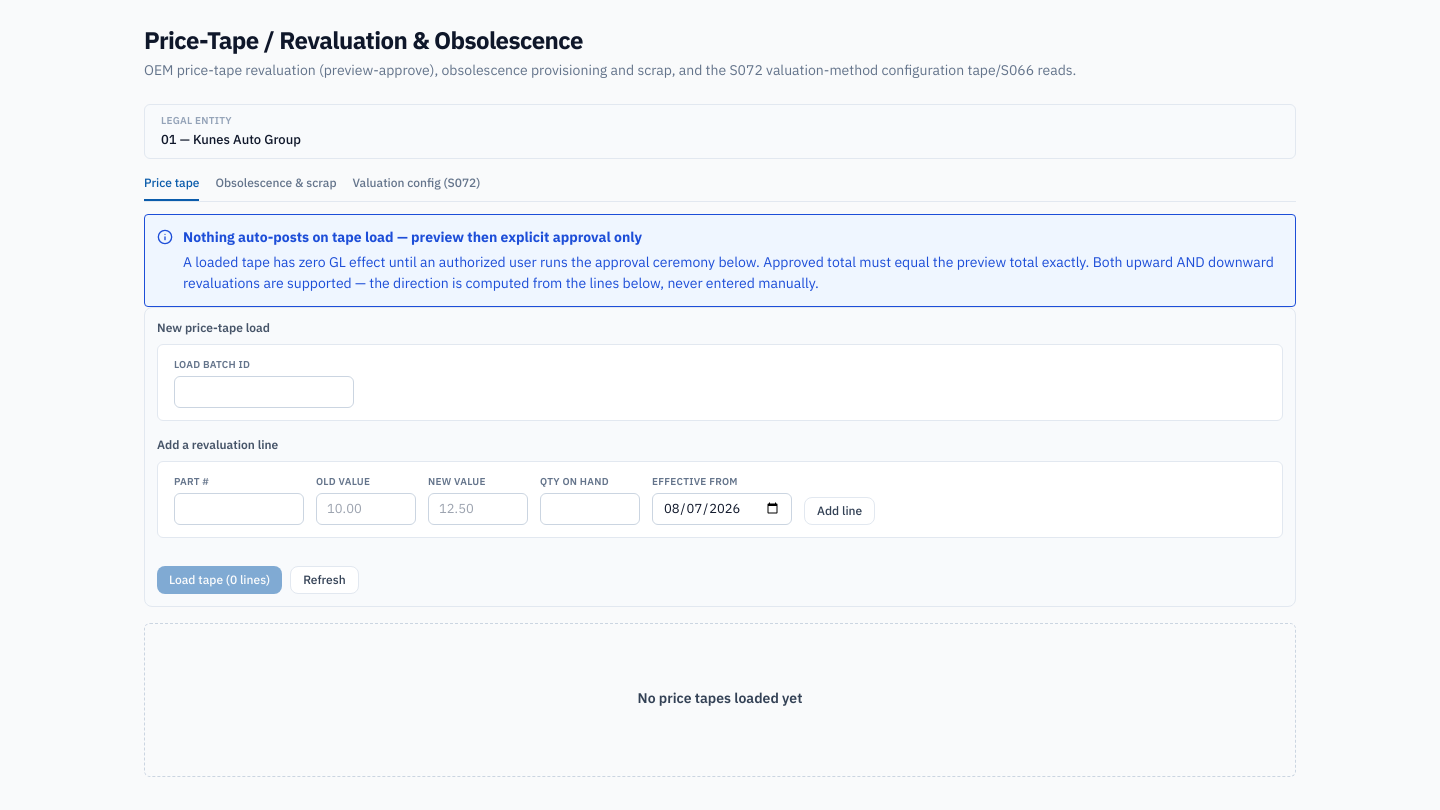
Test case: PartsValuation › price-tape: upward and downward revaluations render distinct direction badges, computed from the preview total, never entered manually
Click the button with test id "pricetape-refresh" at (324, 580), box x1=290 y1=566 x2=359 y2=594
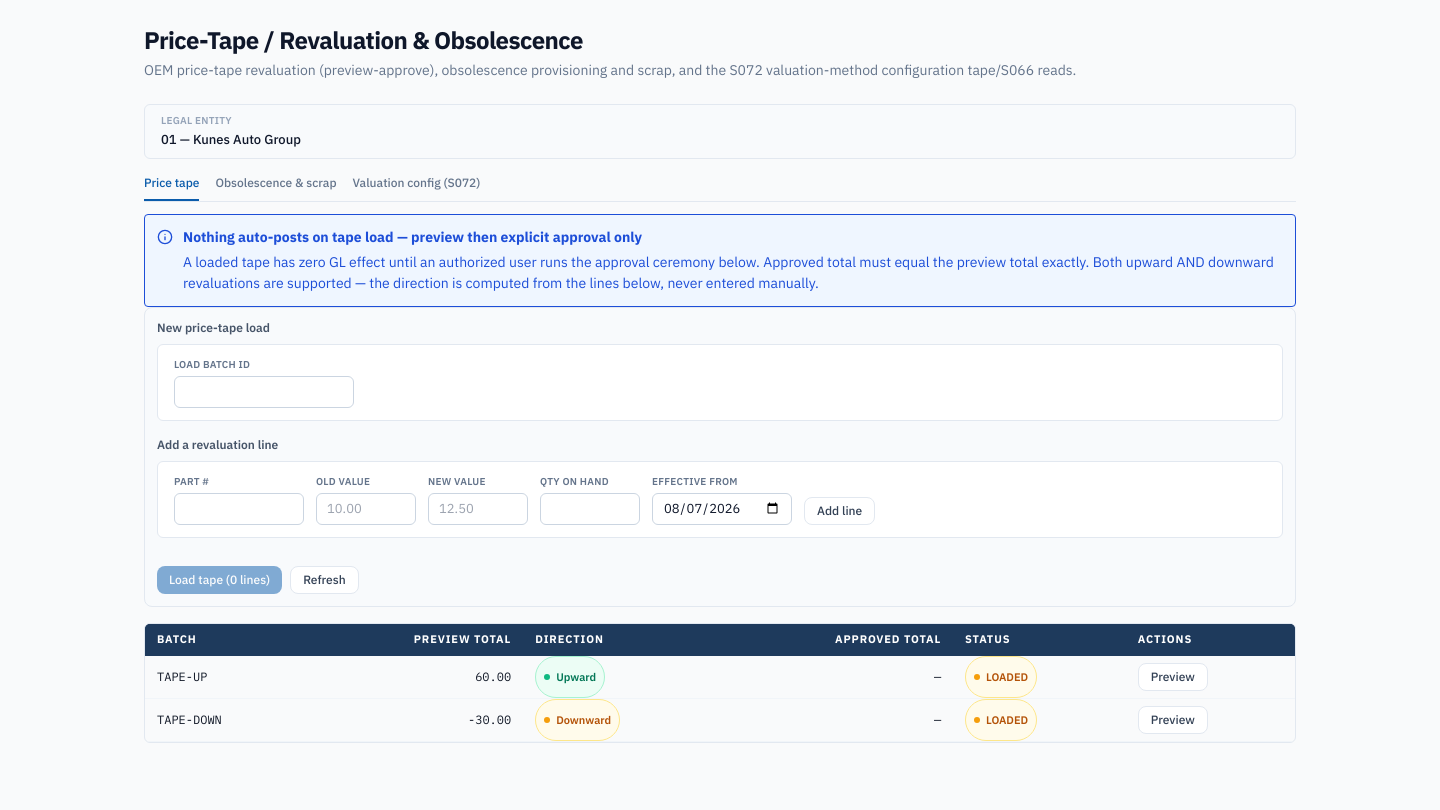
Check: the table with test id "pricetape-table" is shown, box x1=145 y1=624 x2=1295 y2=742
Check: the element with test id "pricetape-direction-TAPE-UP" reads "Upward", box x1=556 y1=670 x2=596 y2=684
Check: the element with test id "pricetape-direction-TAPE-DOWN" reads "Downward", box x1=556 y1=712 x2=611 y2=726
